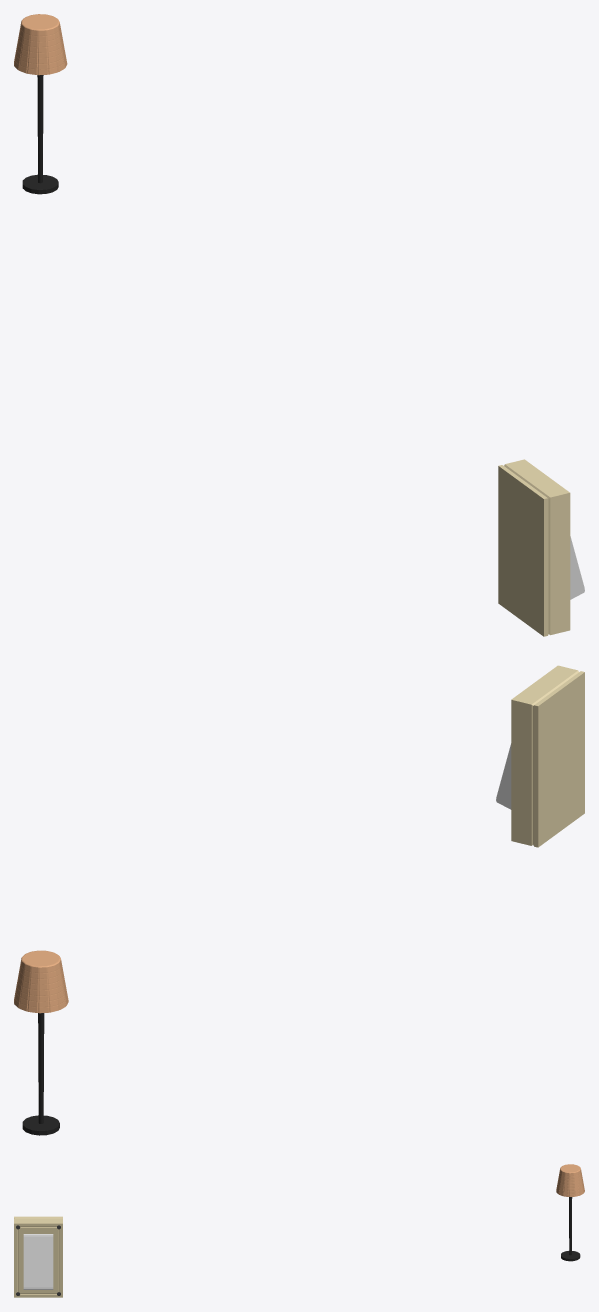
File: simplelamp.fbx
3 views of the same model, one above another, from view 1: azimuth 30°, elevation 25°; view 2: azimuth 150°, elevation 25°; view 3: azimuth 270°, elevation 25° (orthographic). The views are drawn at different scales.
Visible parts, largest first — view 1: Cube, Cylinder.001; view 2: Cube, Cylinder.001, Cylinder, Cylinder.002, Cube.001; view 3: Cube, Cube.001, Cylinder.001.
Boxes of the visible parts, x1,y1,x2,y2 form: Cube: [498, 459, 570, 636]; Cylinder.001: [14, 14, 67, 75]; Cube: [511, 665, 584, 847]; Cylinder.001: [14, 950, 68, 1013]; Cylinder: [38, 1013, 44, 1123]; Cylinder.002: [22, 1115, 59, 1135]; Cube.001: [496, 743, 511, 809]; Cube: [14, 1216, 62, 1297]; Cube.001: [23, 1234, 53, 1289]; Cylinder.001: [556, 1164, 584, 1196].
Size of the model in its own units: 91.57 by 339 by 1395.
